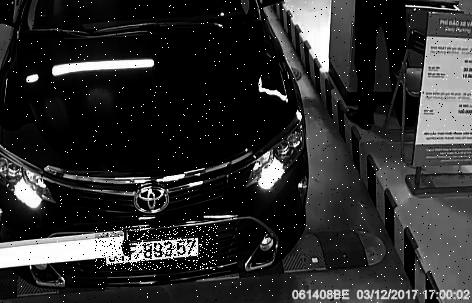License-plate: (97, 227, 220, 271)
